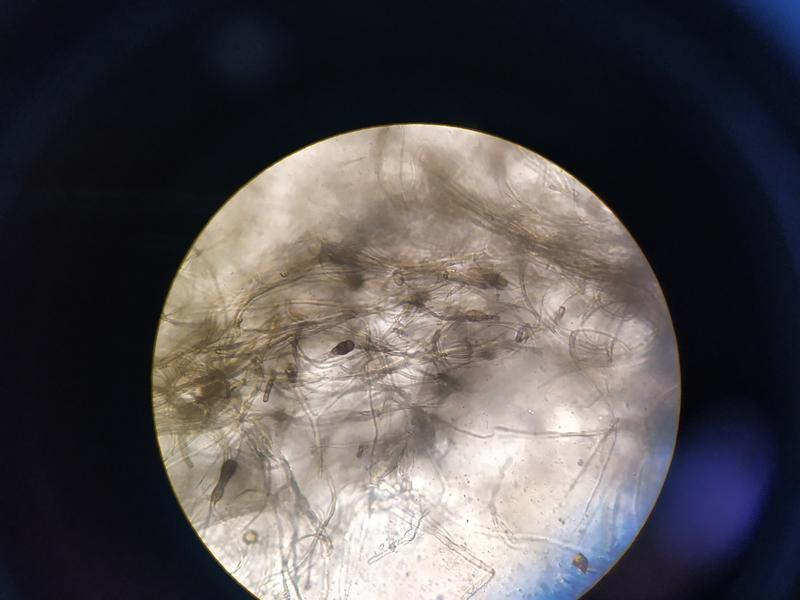fungus: (235, 199, 600, 577)
